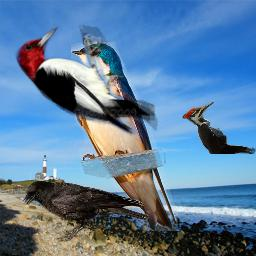Crow: (20, 180, 149, 242)
Swallow: (71, 42, 178, 231)
Woodpecker: (0, 20, 162, 142), (179, 102, 256, 154)
